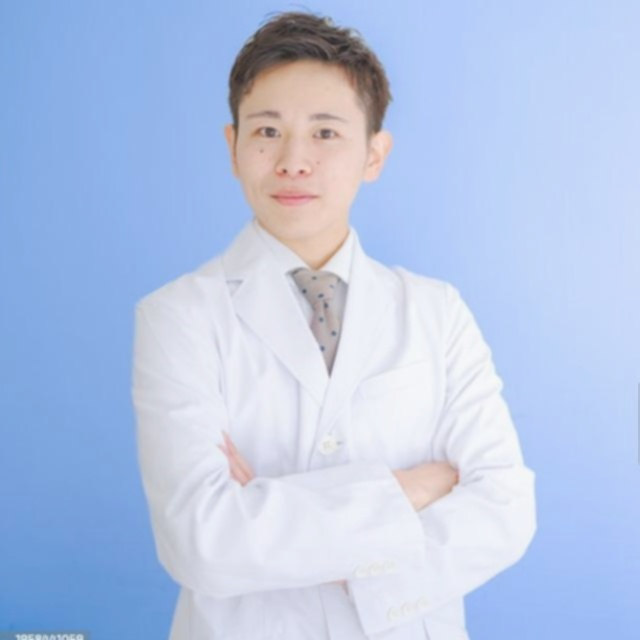Sin_Casco_Mascarrilla: (222, 11, 394, 233)
Sin_Chaleco: (134, 238, 462, 624)
